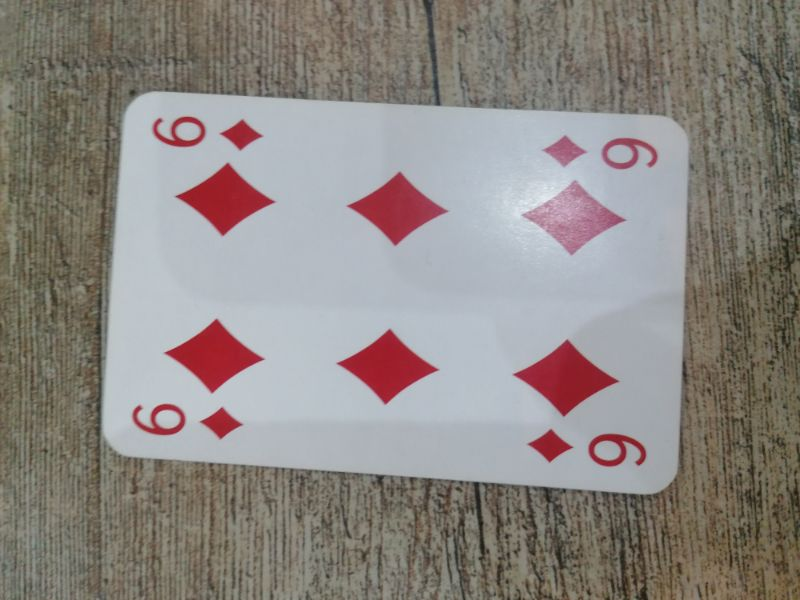6d: (524, 424, 651, 476), (128, 396, 248, 445), (149, 110, 269, 155), (540, 133, 664, 176)
